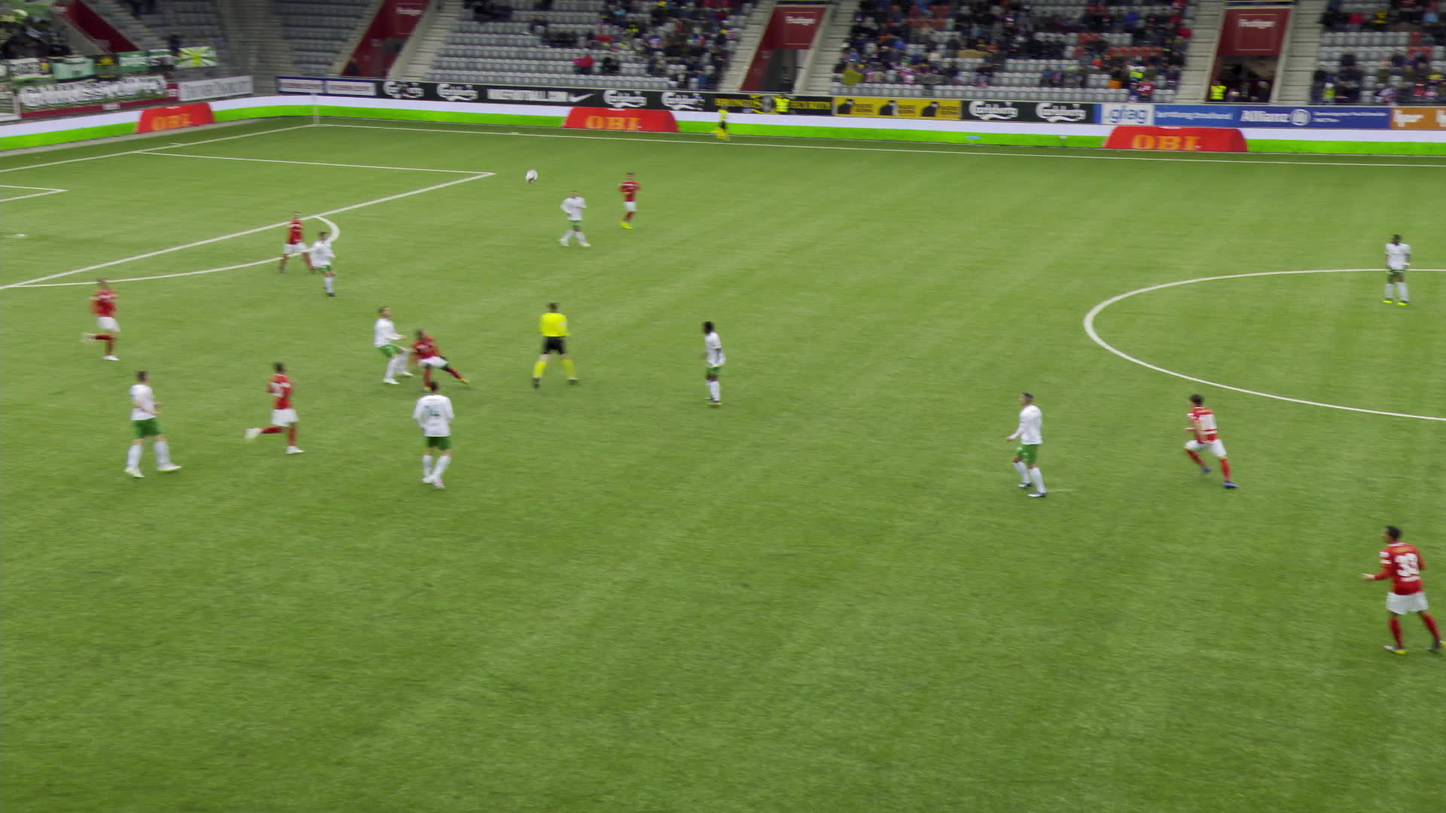ball: (524, 167, 539, 184)
player: (1355, 517, 1444, 662), (118, 363, 183, 479), (1176, 388, 1241, 491), (241, 354, 305, 458), (996, 387, 1051, 502), (410, 378, 460, 495), (399, 324, 472, 394), (73, 267, 125, 364), (369, 302, 416, 391), (692, 318, 729, 406), (1374, 229, 1414, 307), (273, 208, 317, 276), (554, 185, 593, 251), (309, 229, 340, 300), (612, 168, 645, 230)
referee: (525, 297, 584, 390), (709, 99, 731, 142)
